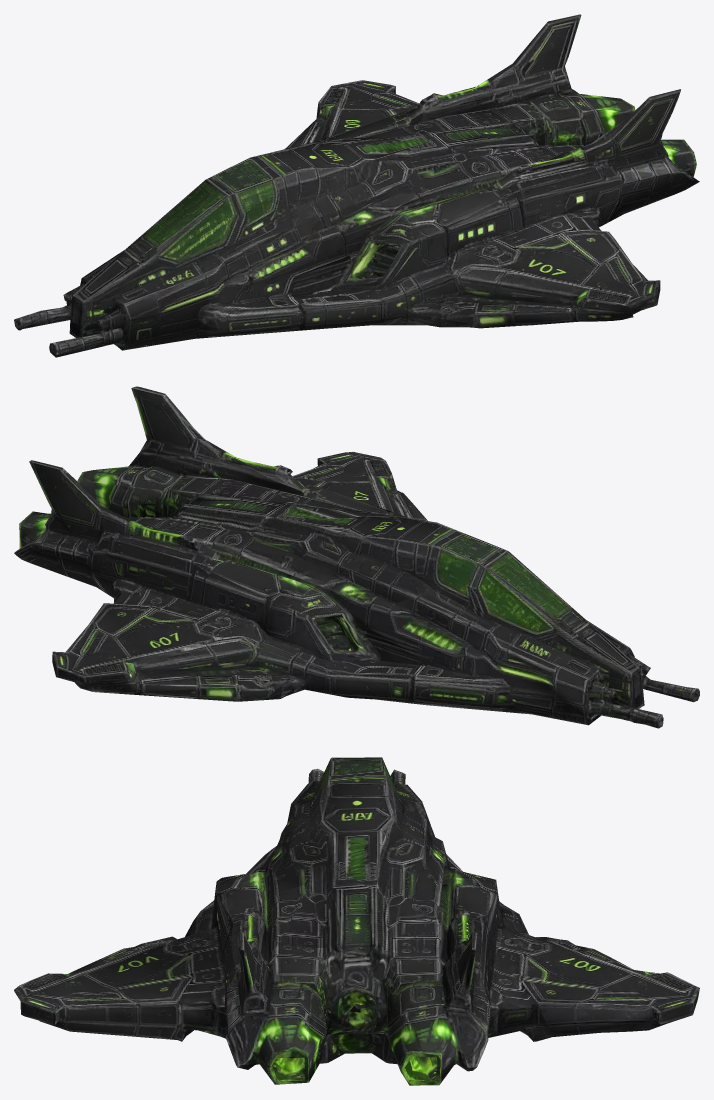
The model's file is ship6.glb.
The picture shows the model from 3 angles, top to bottom: view 1: azimuth 30°, elevation 25°; view 2: azimuth 150°, elevation 25°; view 3: azimuth 270°, elevation 25°; orthographic projection. The views are drawn at different scales.
Parts seen in each view (by area): view 1: Mesh0; view 2: Mesh0; view 3: Mesh0.
Boxes of the visible parts, x1,y1,x2,y2 form: Mesh0: (14, 14, 699, 357); Mesh0: (14, 386, 699, 728); Mesh0: (14, 757, 699, 1085).
Bounding box in the file's own units: 1.91 × 0.4719 × 1.59.
1 material, 1 textured.
